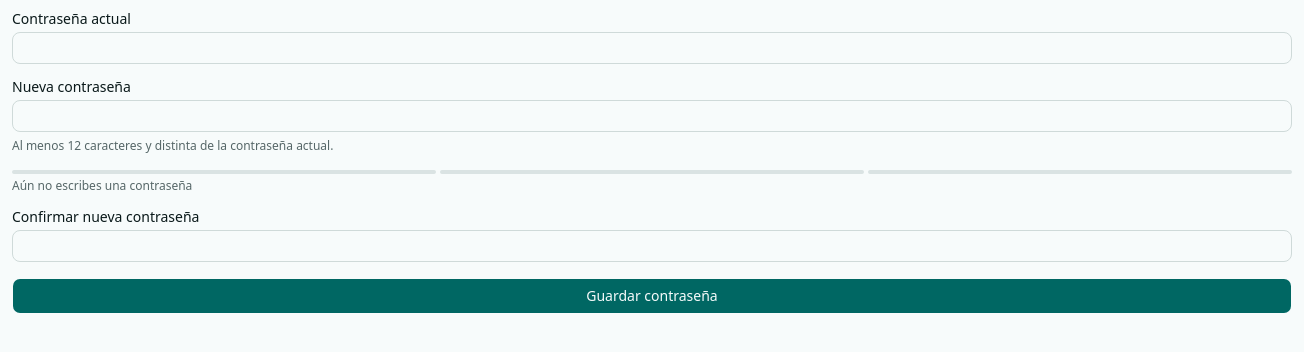
Test: PasswordChangeForm: checks before it asks the API › wants at least 12 characters in the new password
Step 1. Type "the-old-password-1" into the password field labelled "Contraseña actual" → (652, 48), box [12, 32, 1292, 64]
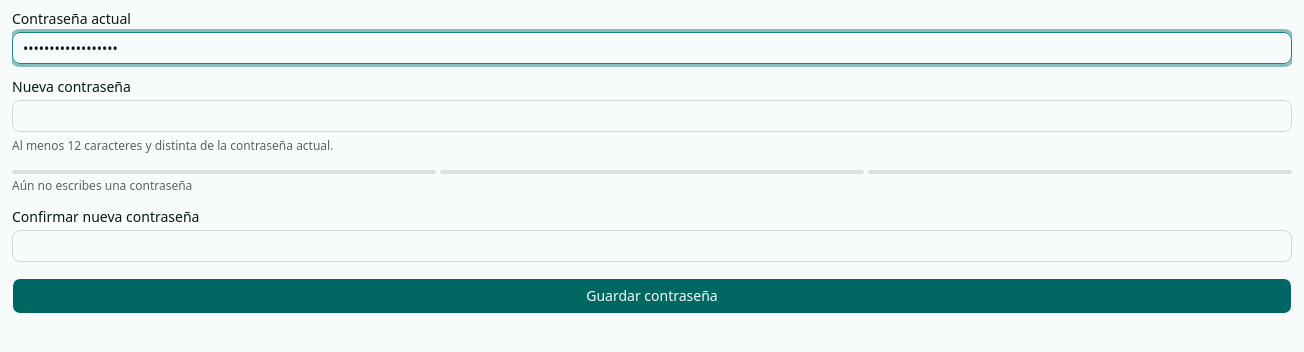
Step 2. Type "elevenchars" into the password field labelled "Nueva contraseña" → (652, 116), box [12, 100, 1292, 132]
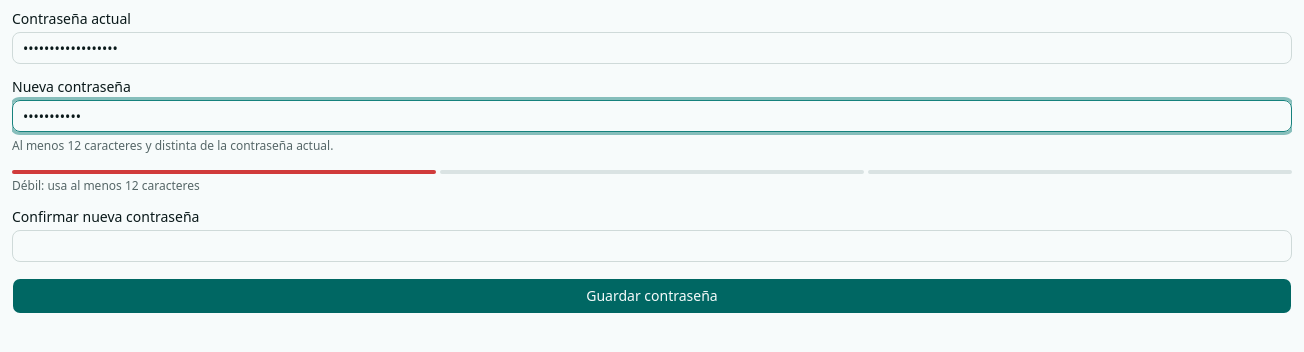
Step 3. Type "elevenchars" into the password field labelled "Confirmar nueva contraseña" → (652, 246), box [12, 230, 1292, 262]
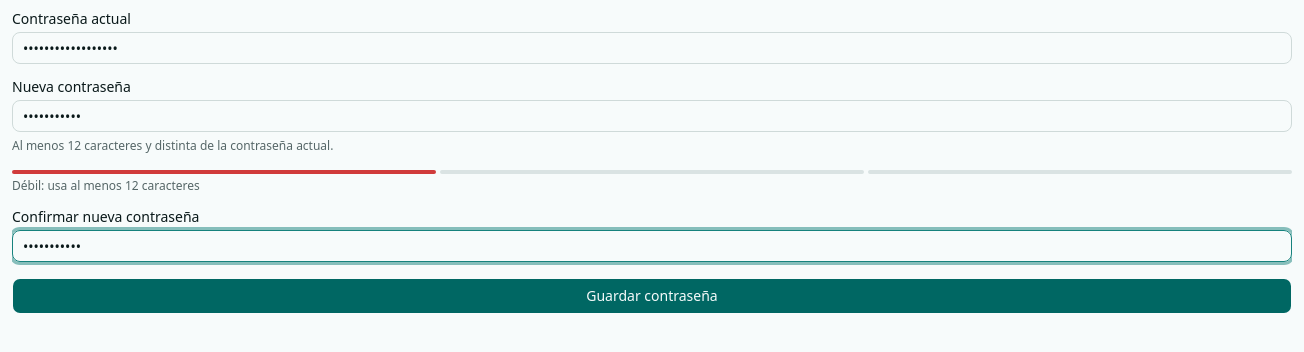
Step 4. Click the button "Guardar contraseña" → (652, 296), box [12, 278, 1292, 314]
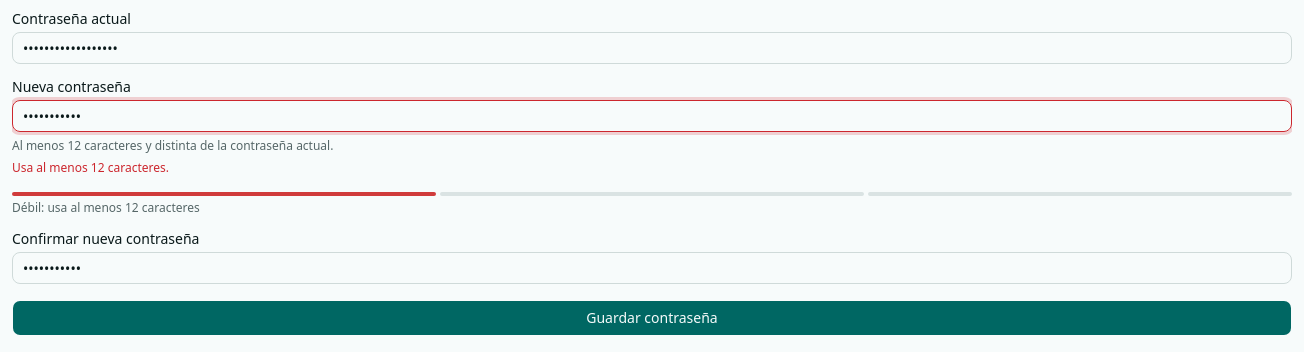
expect the text "Usa al menos 12 caracteres." is shown: met, box [12, 159, 169, 176]
